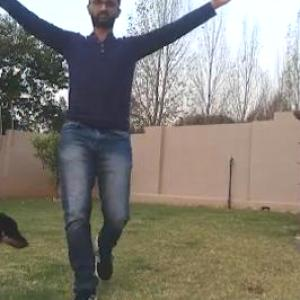takeoff: (0, 0, 244, 280)
